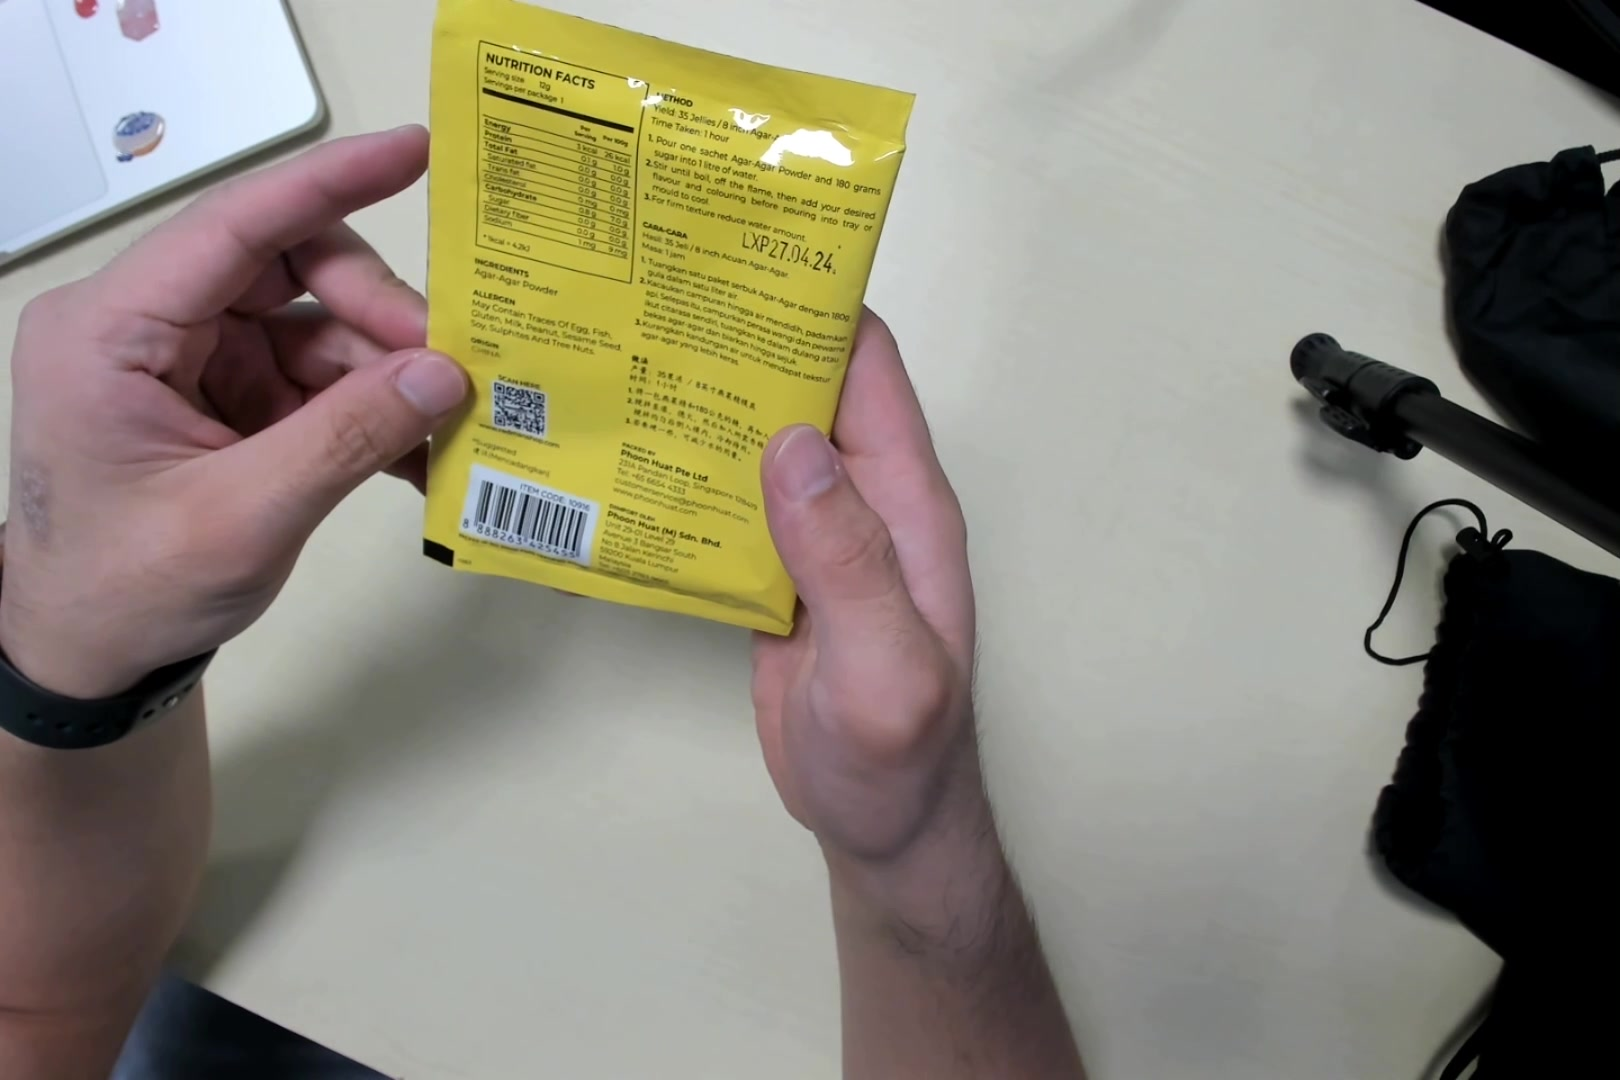OtherBakingNeeds_0-99g_Halal_NonHealthy: (423, 5, 903, 638)
